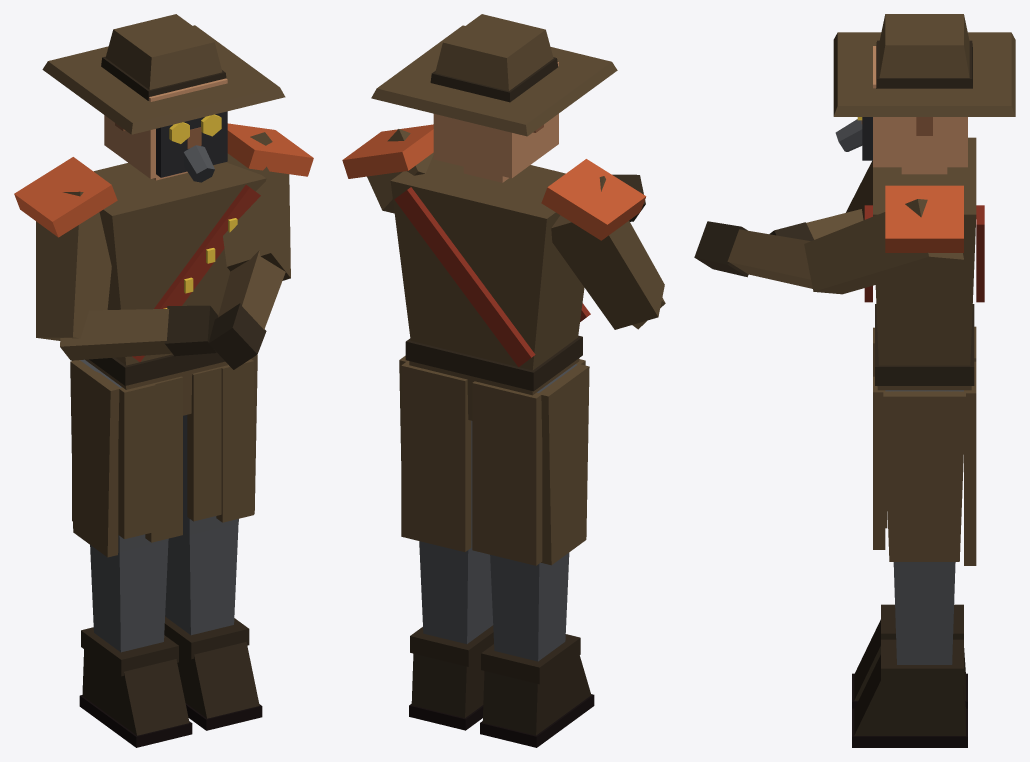
The model's file is gunman.glb.
3 views of the same model, side by side, from view 1: azimuth 30°, elevation 25°; view 2: azimuth 150°, elevation 25°; view 3: azimuth 270°, elevation 25° (orthographic). The views are drawn at different scales.
Parts seen in each view (by area): view 1: head, torso, coat_flap_r, leg_r_lower, leg_l_lower, coat_flap_l, arm_r, arm_r_lower, arm_l_lower, arm_l, pauldron_r, pauldron_l (+2 smaller); view 2: torso, head, coat_flap_r, leg_r_lower, leg_l_lower, coat_flap_l, arm_r, pauldron_r, pauldron_l, arm_l; view 3: head, coat_flap_l, torso, leg_l_lower, arm_l, pauldron_l, arm_l_lower, leg_r_lower, arm_r_lower, arm_r.
Boxes of the visible parts, <box> form: head: <box>42,14,285,182</box>; torso: <box>85,162,266,415</box>; coat_flap_r: <box>70,360,182,557</box>; leg_r_lower: <box>79,541,192,747</box>; leg_l_lower: <box>164,523,262,730</box>; coat_flap_l: <box>187,355,257,522</box>; arm_r: <box>36,191,111,340</box>; arm_r_lower: <box>60,305,218,360</box>; arm_l_lower: <box>208,250,285,369</box>; arm_l: <box>223,132,290,280</box>; pauldron_r: <box>14,157,117,237</box>; pauldron_l: <box>227,123,313,176</box>; torso: <box>390,155,590,420</box>; head: <box>371,14,617,182</box>; coat_flap_r: <box>472,359,589,565</box>; leg_r_lower: <box>480,552,594,747</box>; leg_l_lower: <box>409,540,493,730</box>; coat_flap_l: <box>399,355,471,551</box>; arm_r: <box>551,176,664,329</box>; pauldron_r: <box>541,159,646,240</box>; pauldron_l: <box>342,124,433,178</box>; arm_l: <box>367,129,433,213</box>; head: <box>833,14,1015,174</box>; coat_flap_l: <box>873,361,976,565</box>; torso: <box>864,137,984,390</box>; leg_l_lower: <box>852,562,967,747</box>; arm_l: <box>804,199,963,294</box>; pauldron_l: <box>885,185,963,252</box>; arm_l_lower: <box>694,221,812,288</box>; leg_r_lower: <box>852,604,967,708</box>; arm_r_lower: <box>769,209,863,240</box>; arm_r: <box>846,160,872,219</box>.
Size of the model in its own units: 0.7865 by 1.83 by 0.7762.
